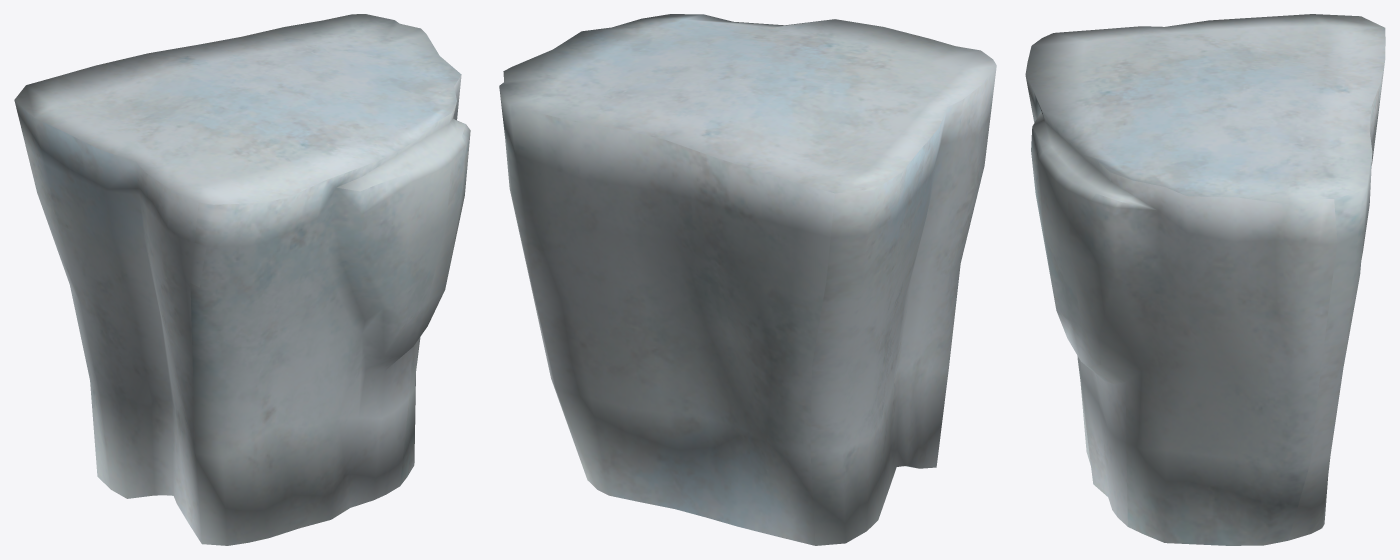
The model's file is P_RockDesert_Shelf09.obj.
3 views of the same model, side by side, from view 1: azimuth 30°, elevation 25°; view 2: azimuth 150°, elevation 25°; view 3: azimuth 270°, elevation 25° (orthographic). The views are drawn at different scales.
Size of the model in its own units: 25.29 by 24.06 by 20.26.
